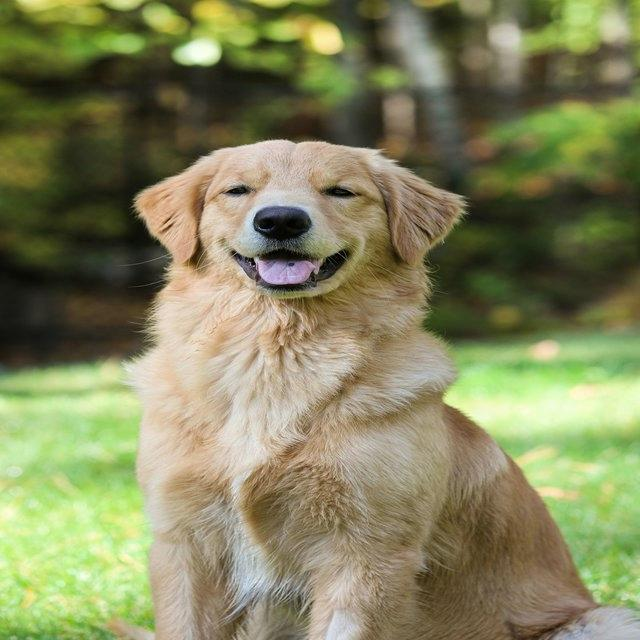retriever: (120, 136, 639, 639)
